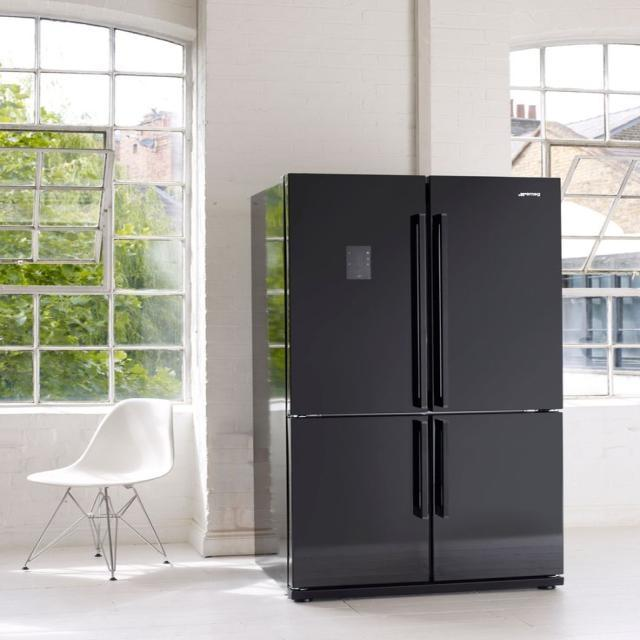obstacle: (250, 172, 566, 602), (22, 397, 175, 580)
